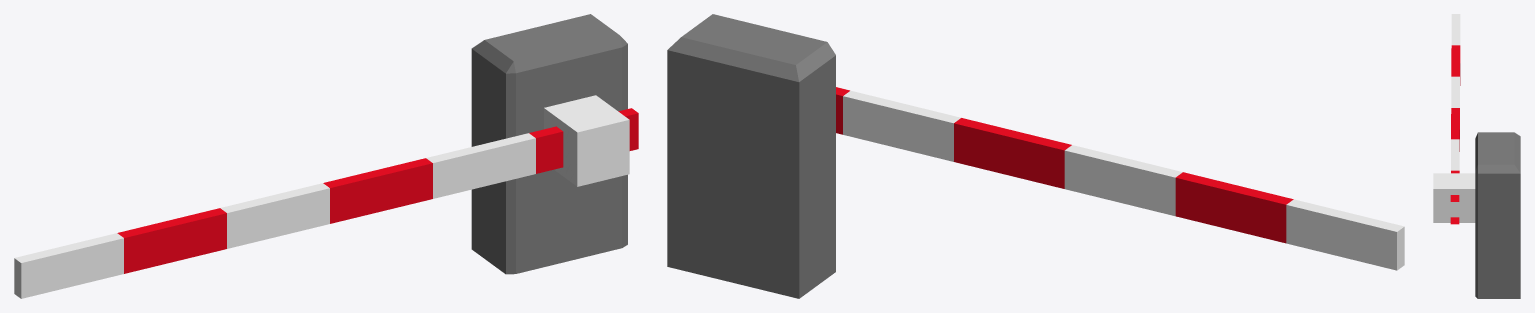
File: SM_Barrier1.fbx
3 renders of one model, left to right at view 1: azimuth 30°, elevation 25°; view 2: azimuth 150°, elevation 25°; view 3: azimuth 270°, elevation 25°, orthographic. The views are drawn at different scales.
Visible parts, largest first — view 1: SM_Barrier1; view 2: SM_Barrier1; view 3: SM_Barrier1.
Boxes of the visible parts, box(x1,y1,x2,y2) form: SM_Barrier1: box(14, 14, 638, 298); SM_Barrier1: box(667, 14, 1404, 298); SM_Barrier1: box(1433, 14, 1520, 298).
Bounding box in the file's own units: 355 × 114 × 68.55.
